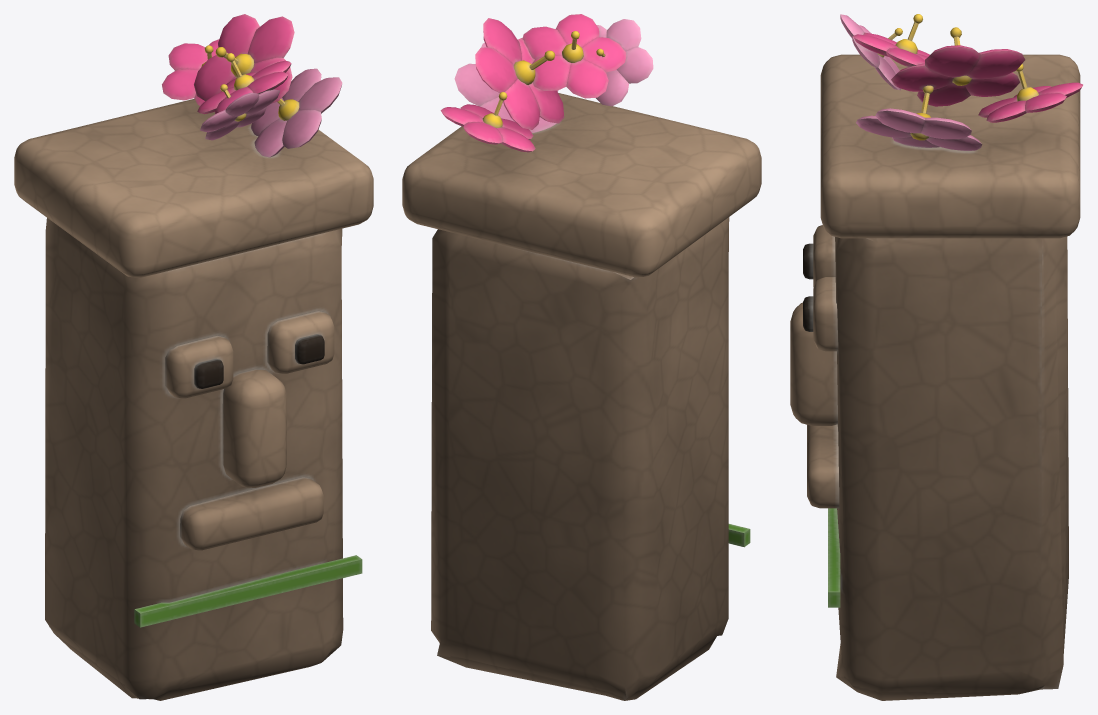
File: en_tiki_statue.glb
3 renders of one model, left to right at view 1: azimuth 30°, elevation 25°; view 2: azimuth 150°, elevation 25°; view 3: azimuth 270°, elevation 25°, orthographic. The views are drawn at different scales.
Visible parts, largest first — view 1: en_tiki_statue; view 2: en_tiki_statue; view 3: en_tiki_statue.
Boxes of the visible parts, x1,y1,x2,y2 form: en_tiki_statue: (14, 14, 373, 700); en_tiki_statue: (402, 14, 761, 700); en_tiki_statue: (790, 14, 1082, 700).
Size of the model in its own units: 1.5 by 3.49 by 1.41.
Materials: 7 (7 with a texture image).
